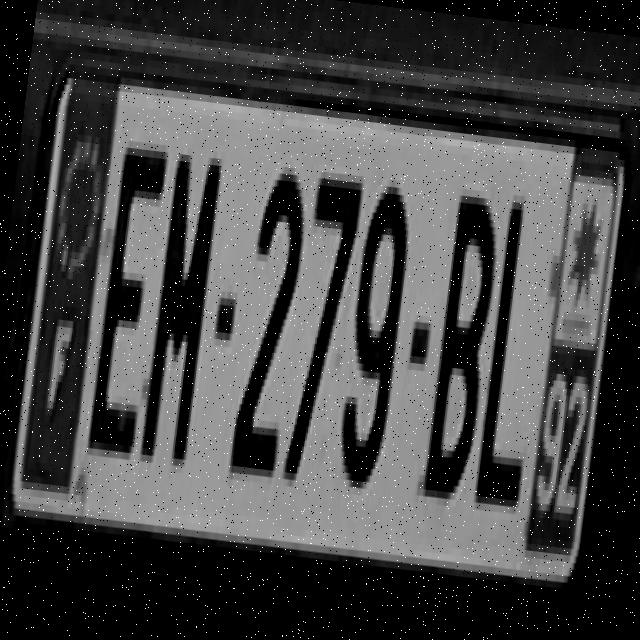EU: (8, 73, 622, 570)
France: (15, 72, 124, 496)
